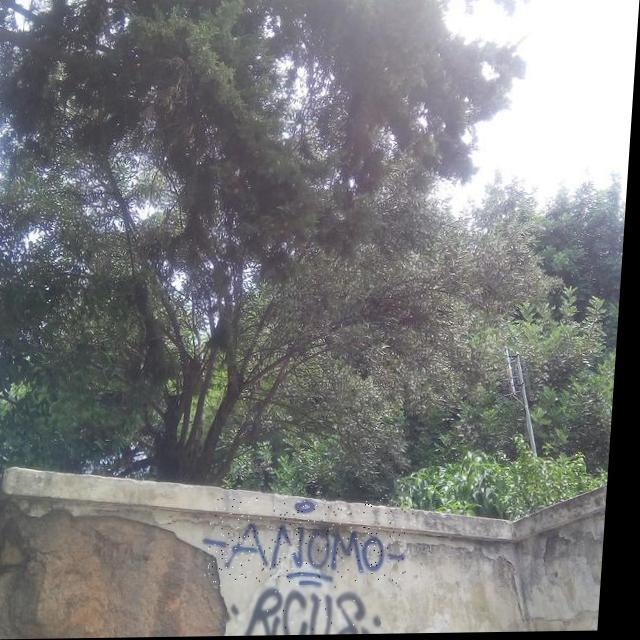-: (211, 496, 422, 587), (235, 585, 392, 637)
